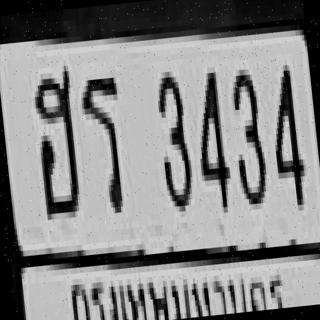A35: (76, 66, 128, 210)
A44: (30, 62, 81, 217)
N03: (150, 65, 193, 208), (227, 63, 267, 205)
N04: (188, 61, 231, 209), (264, 59, 305, 201)
P04: (60, 242, 289, 320)
